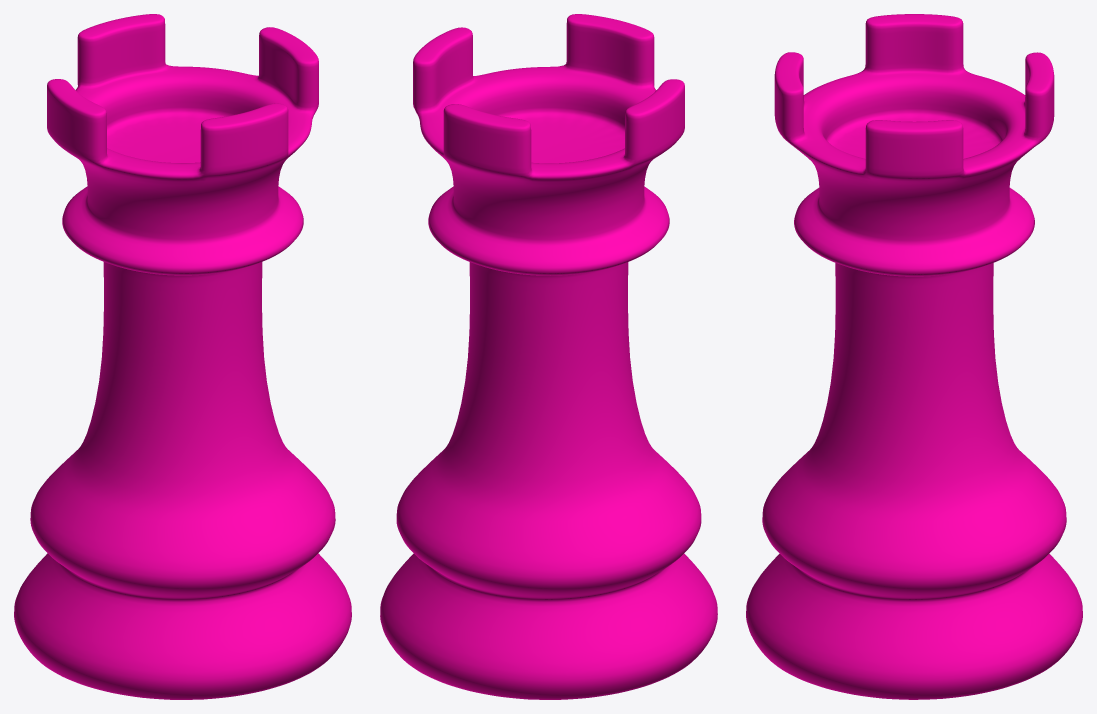
Rendered from Rook.fbx.
3 views of the same model, side by side, from view 1: azimuth 30°, elevation 25°; view 2: azimuth 150°, elevation 25°; view 3: azimuth 270°, elevation 25° (orthographic).
Visible parts, largest first — view 1: RookMesh; view 2: RookMesh; view 3: RookMesh.
Part boxes in pixels (<box>): RookMesh: <box>14,14,351,699</box>; RookMesh: <box>380,14,717,699</box>; RookMesh: <box>746,14,1082,699</box>.
Size of the model in its own units: 1.39 by 2.59 by 1.39.
